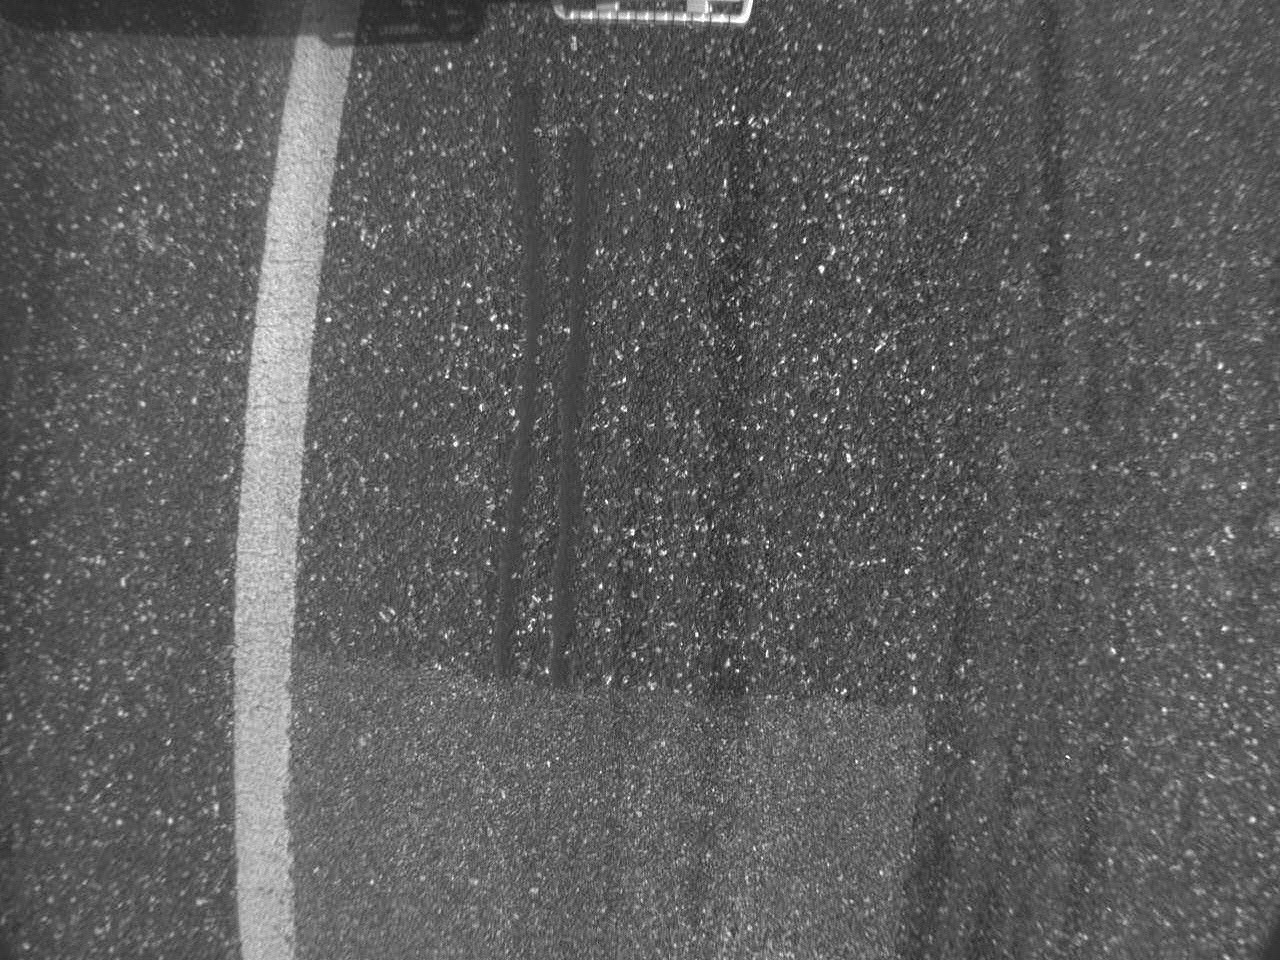sealed: (499, 80, 600, 684)
